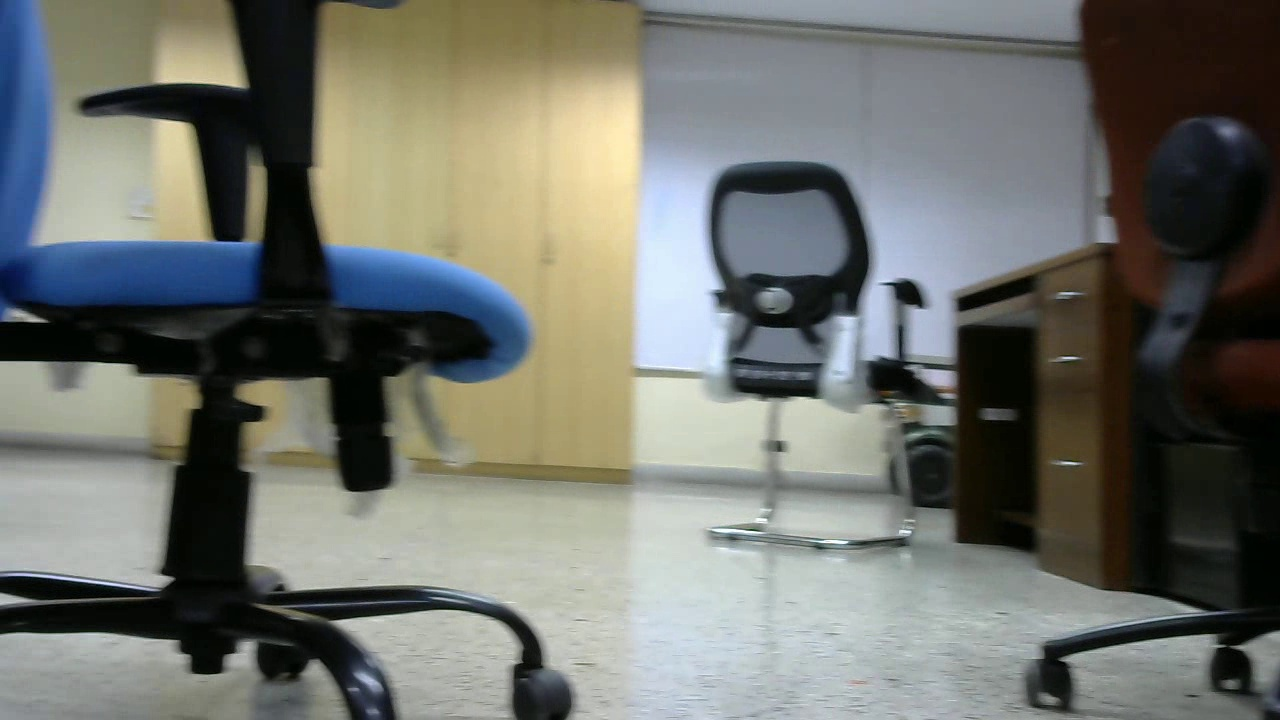chair: (694, 152, 927, 555)
